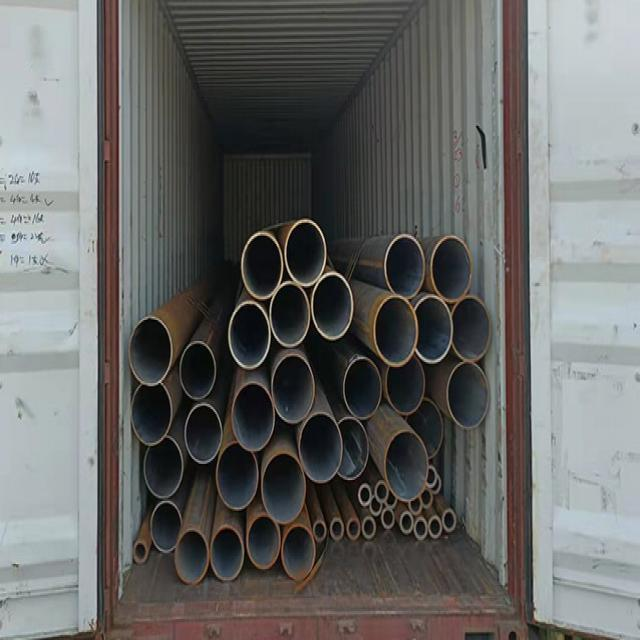pipe: (129, 313, 172, 386), (263, 453, 306, 525), (311, 269, 352, 342), (374, 298, 416, 369), (299, 413, 341, 484), (272, 351, 315, 419), (285, 220, 327, 288), (386, 435, 430, 499), (231, 382, 273, 449), (216, 444, 259, 509), (270, 281, 310, 350), (228, 302, 269, 368), (448, 362, 489, 428), (384, 237, 426, 301), (241, 233, 281, 298), (452, 297, 491, 361), (132, 385, 173, 445), (344, 358, 384, 418), (432, 238, 470, 301), (416, 299, 454, 362), (385, 357, 426, 414), (336, 414, 369, 482), (185, 405, 222, 465), (144, 442, 183, 497), (180, 340, 215, 401), (407, 402, 443, 461), (176, 530, 208, 582), (212, 528, 245, 578), (283, 528, 314, 580), (248, 517, 280, 567), (150, 502, 181, 551), (443, 510, 457, 534), (328, 522, 345, 539), (381, 508, 394, 529), (363, 519, 376, 539), (376, 482, 389, 502), (414, 519, 427, 539), (134, 542, 147, 562), (420, 490, 432, 511), (370, 494, 382, 514), (425, 467, 436, 488), (402, 511, 413, 532), (347, 520, 359, 539), (430, 519, 442, 538), (358, 486, 371, 503), (315, 524, 325, 541), (409, 502, 421, 513)
